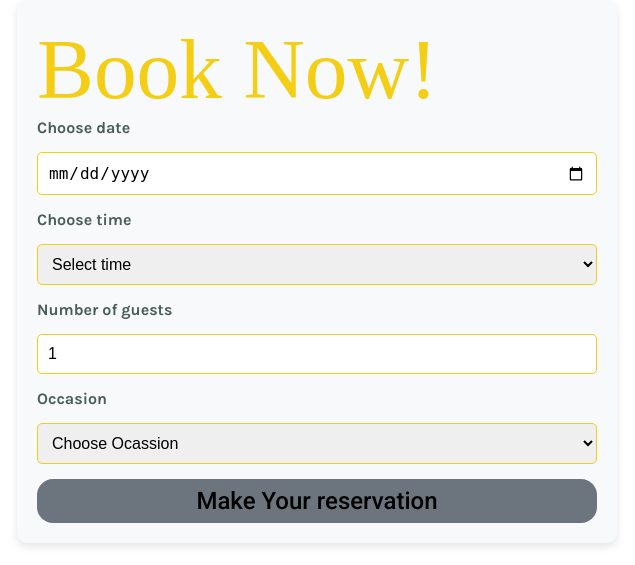
it: Submit button is enabled if form is valid
This screenshot has width=635, height=565.
In the date field labelled "Choose date": {"x": 317, "y": 174} [37,152,597,195], type "2023-12-25"
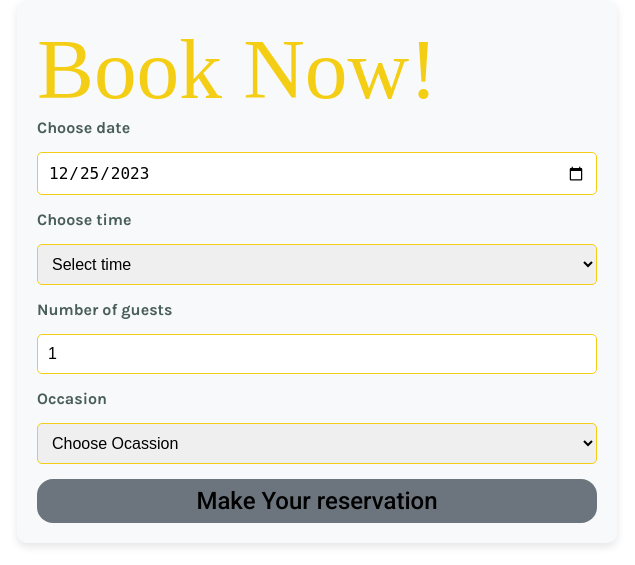
Select "17:00" in the dropdown labelled "Choose time": {"x": 317, "y": 264} [37,244,597,285]
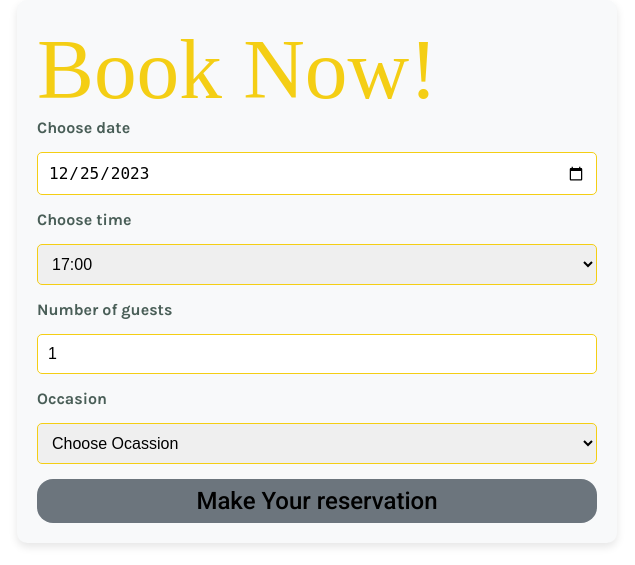
In the number field labelled "Number of guests": {"x": 317, "y": 354} [37,334,597,374], type "2"
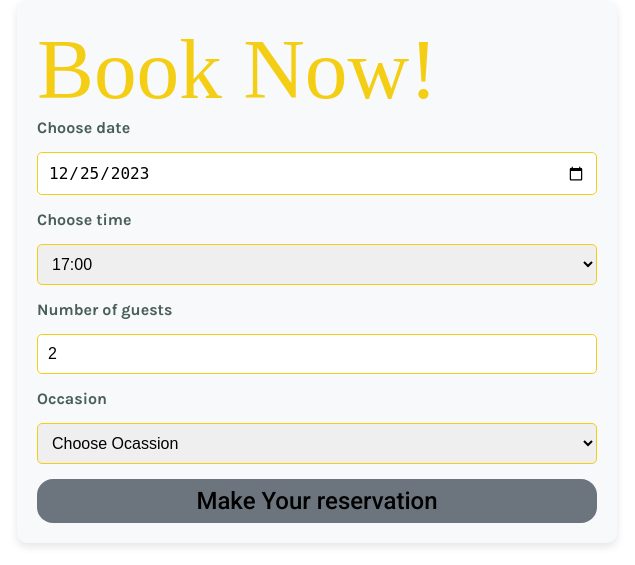
Select "Birthday" in the dropdown labelled "Occasion": {"x": 317, "y": 444} [37,423,597,464]
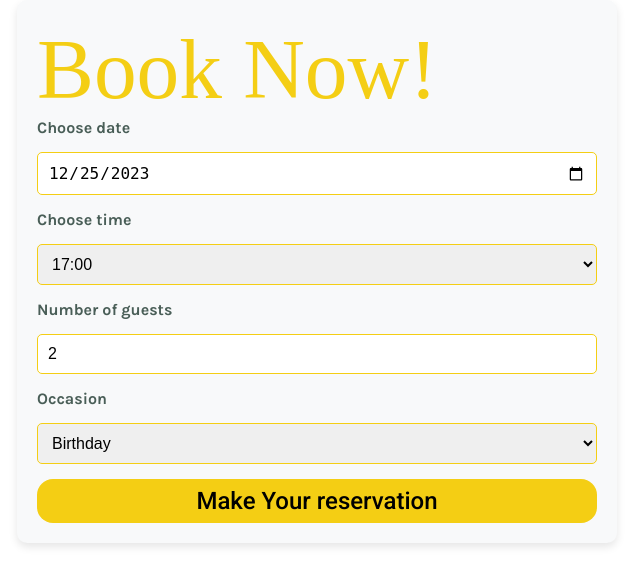
Expected: the button "Make Your reservation" is enabled, [37,479,597,523]
